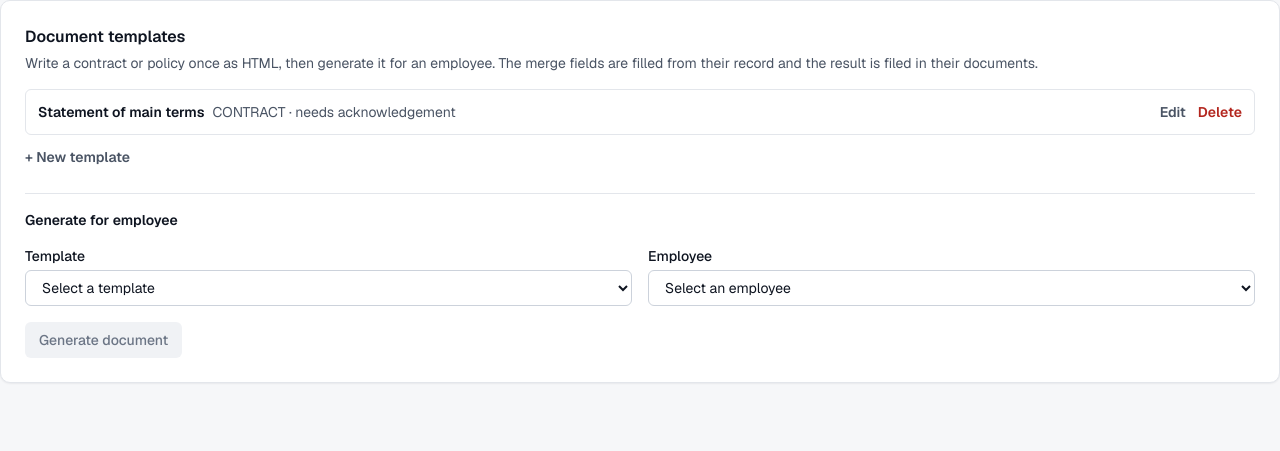
Test: DocumentTemplatesCard › generates a document into the employee file
The image size is (1280, 451).
Select "Statement of main terms" in the dropdown labelled "Template" at {"x": 328, "y": 288}, box left=25, top=270, right=632, bottom=306
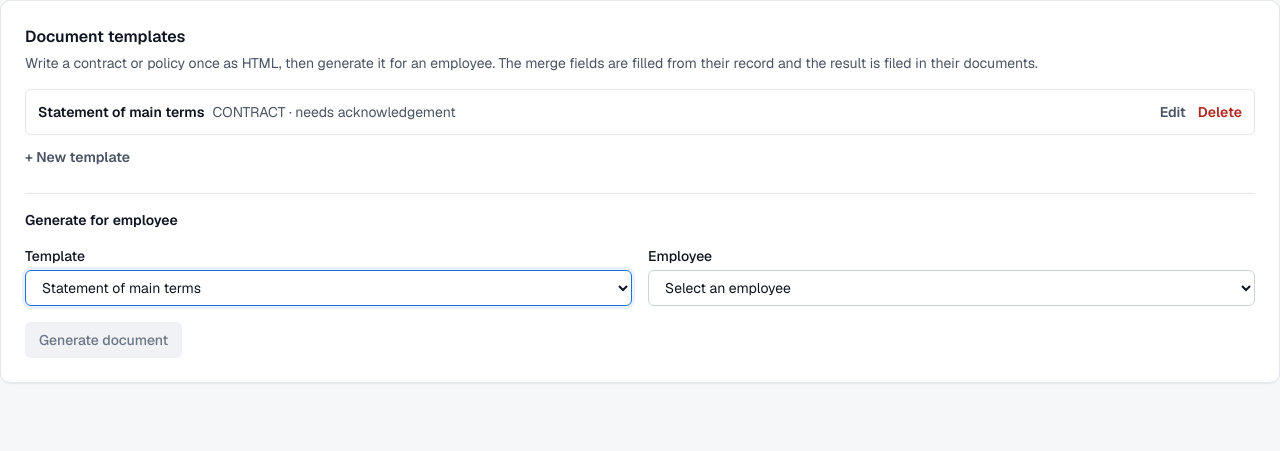
Select "Ella Ng" in the dropdown labelled "Employee" at {"x": 952, "y": 288}, box left=648, top=270, right=1255, bottom=306
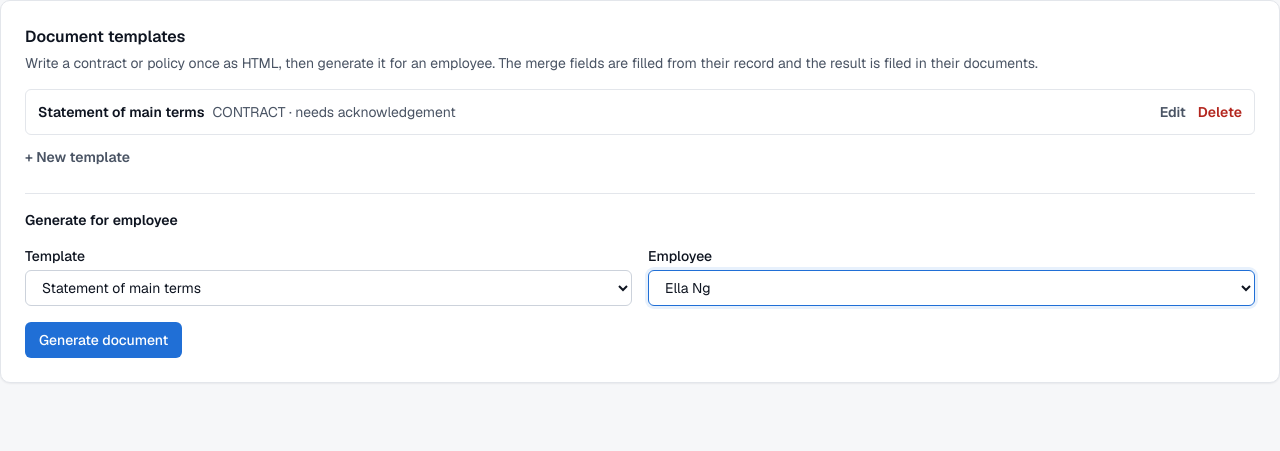
Click the button "Generate document" at {"x": 104, "y": 340}, box left=25, top=322, right=182, bottom=358
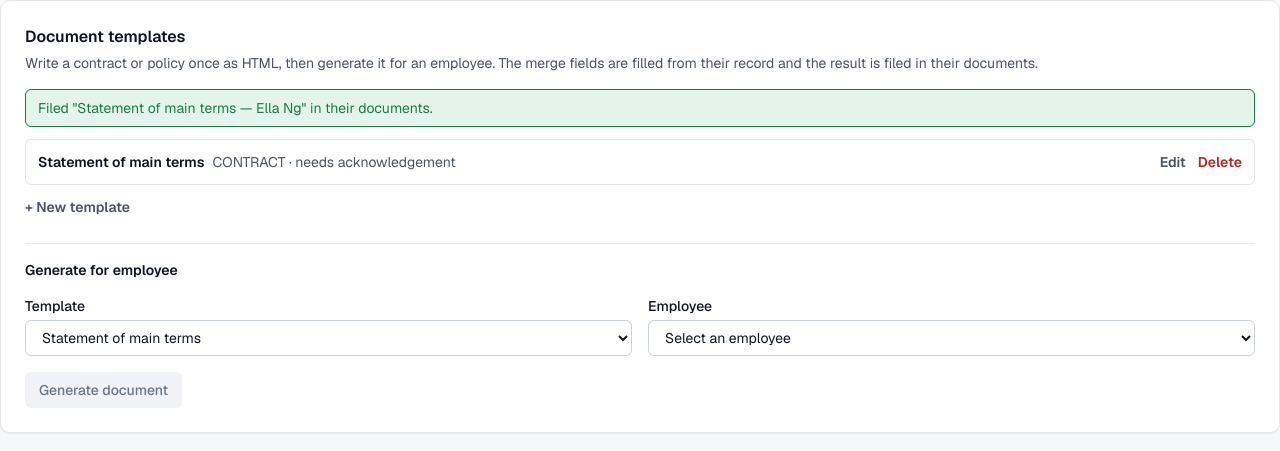
Result: the text "Filed \"Statement of main terms — Ella Ng\" in their documents." is shown at left=25, top=89, right=1255, bottom=127
